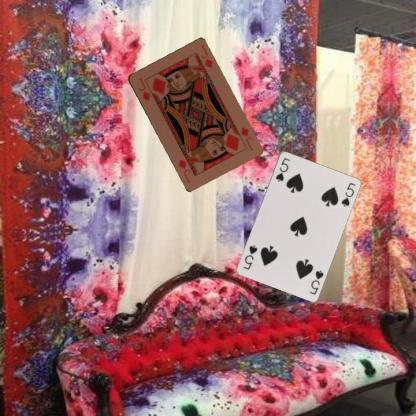5s: (307, 267, 325, 296), (272, 155, 290, 182)
Jd: (136, 74, 152, 102), (238, 124, 254, 152)
